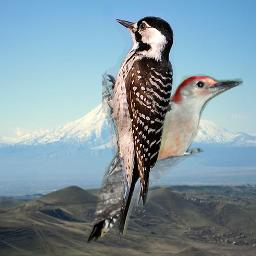Woodpecker: (86, 74, 243, 244), (102, 10, 177, 242)
